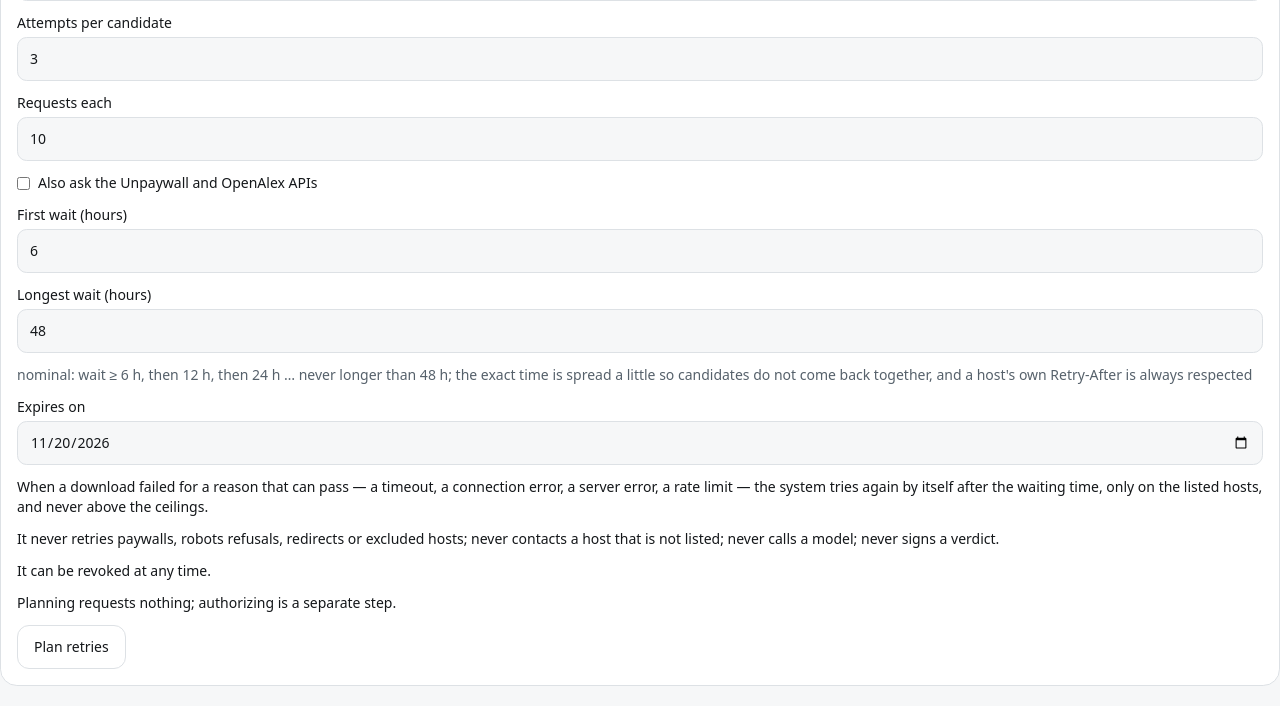
Test: retry policy plan form › refuses an empty host list before any POST
(page scrolled)
Click the button "Plan retries" at point(71, 647), box [17, 625, 126, 669]
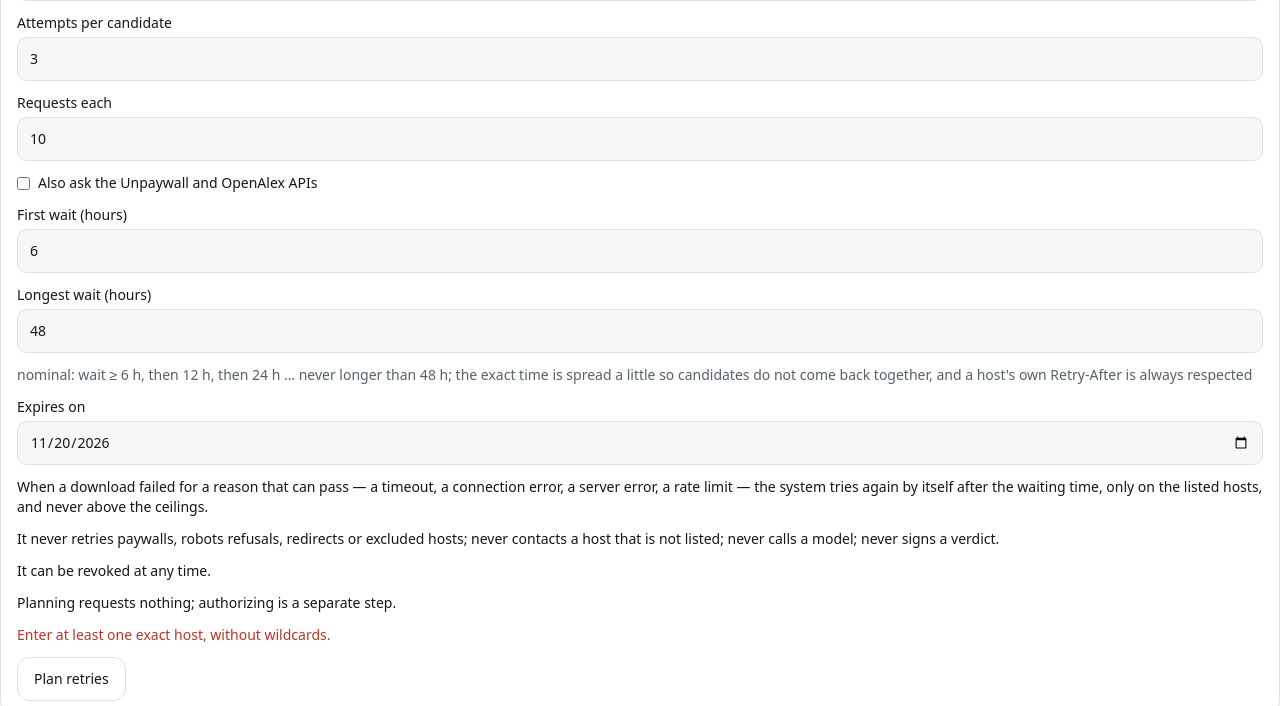
expect the message shows "Enter at least one exact host": met, box [17, 625, 330, 644]
